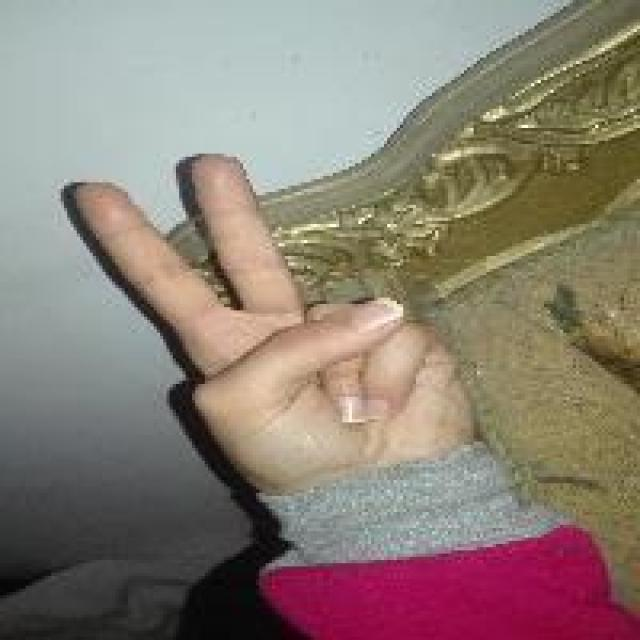V: (66, 147, 491, 496)
